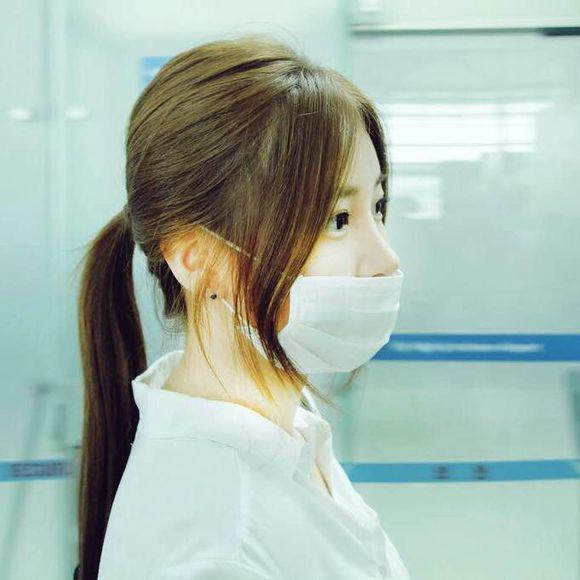WRONG: (228, 171, 403, 365)
